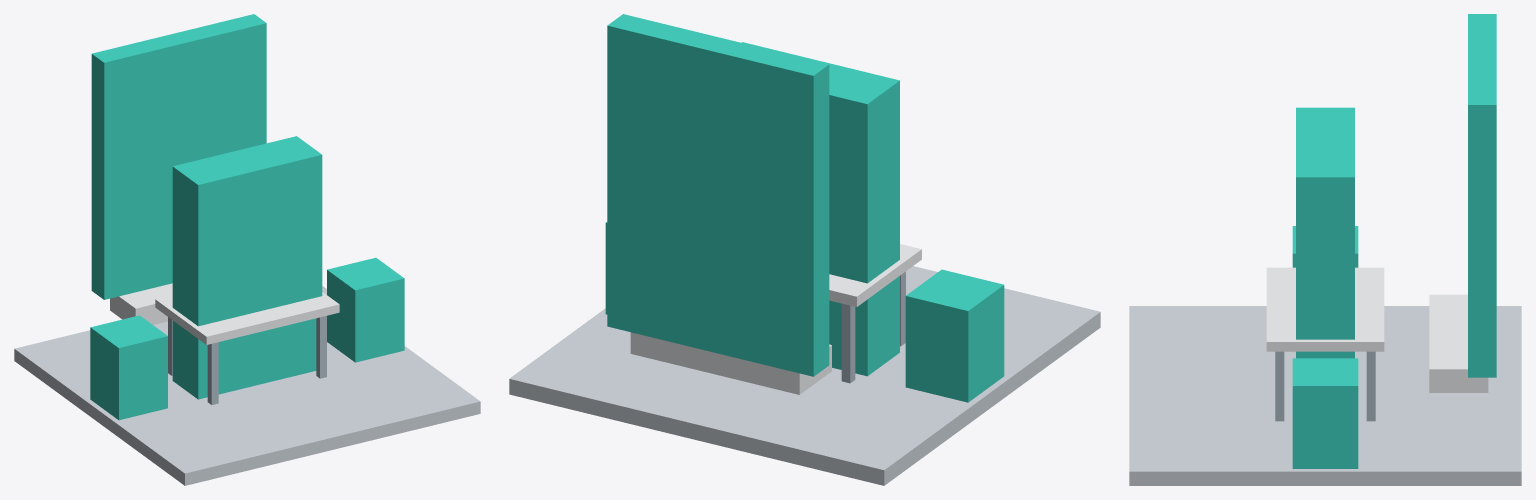
3 renders of one model, left to right at view 1: azimuth 30°, elevation 25°; view 2: azimuth 150°, elevation 25°; view 3: azimuth 270°, elevation 25°, orthographic. The views are drawn at different scales.
Visible parts, largest first — view 1: Exhibition Booth Concept; view 2: Exhibition Booth Concept; view 3: Exhibition Booth Concept.
Boxes of the visible parts, bbox=[...] form: Exhibition Booth Concept: bbox=[14, 14, 480, 485]; Exhibition Booth Concept: bbox=[509, 14, 1100, 485]; Exhibition Booth Concept: bbox=[1129, 14, 1521, 485].
Bounding box in the file's own units: 3 × 2.9 × 3.
